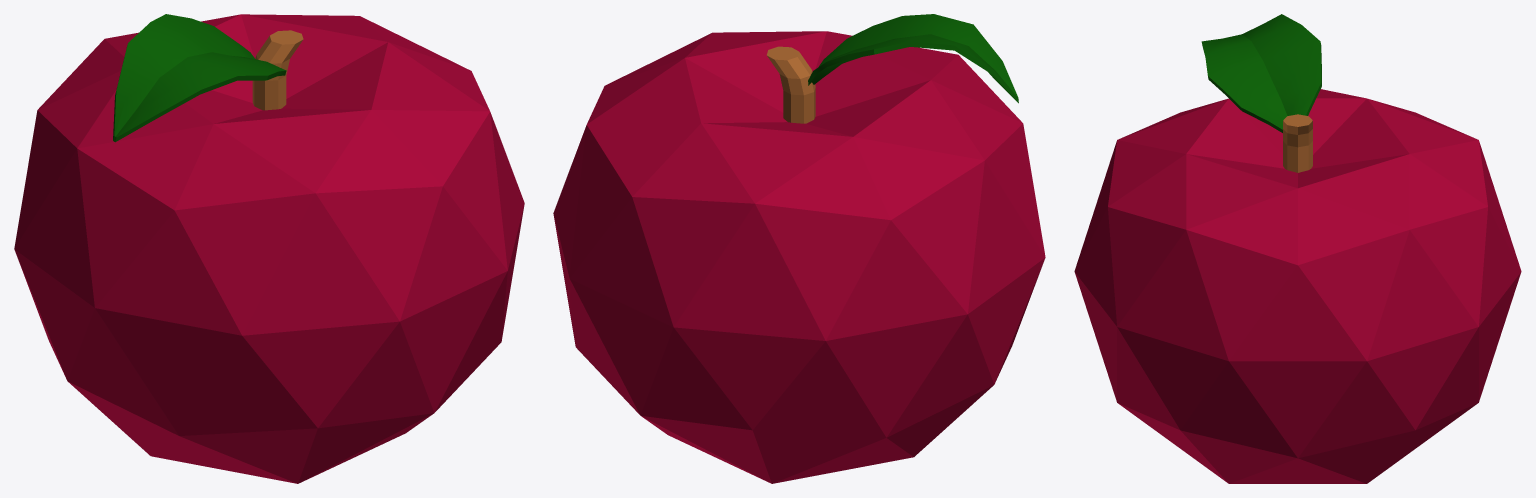
File: ManzanaRoja.fbx
The picture shows the model from 3 angles, left to right: view 1: azimuth 30°, elevation 25°; view 2: azimuth 150°, elevation 25°; view 3: azimuth 270°, elevation 25°; orthographic projection. The views are drawn at different scales.
Visible parts, largest first — view 1: Manzana(R); view 2: Manzana(R); view 3: Manzana(R).
Part boxes in pixels (box(x1,y1,x2,y2)): Manzana(R): box(14, 14, 524, 483); Manzana(R): box(553, 14, 1045, 483); Manzana(R): box(1074, 14, 1521, 483).
Bounding box in the file's own units: 7.5 × 7.62 × 7.89.
